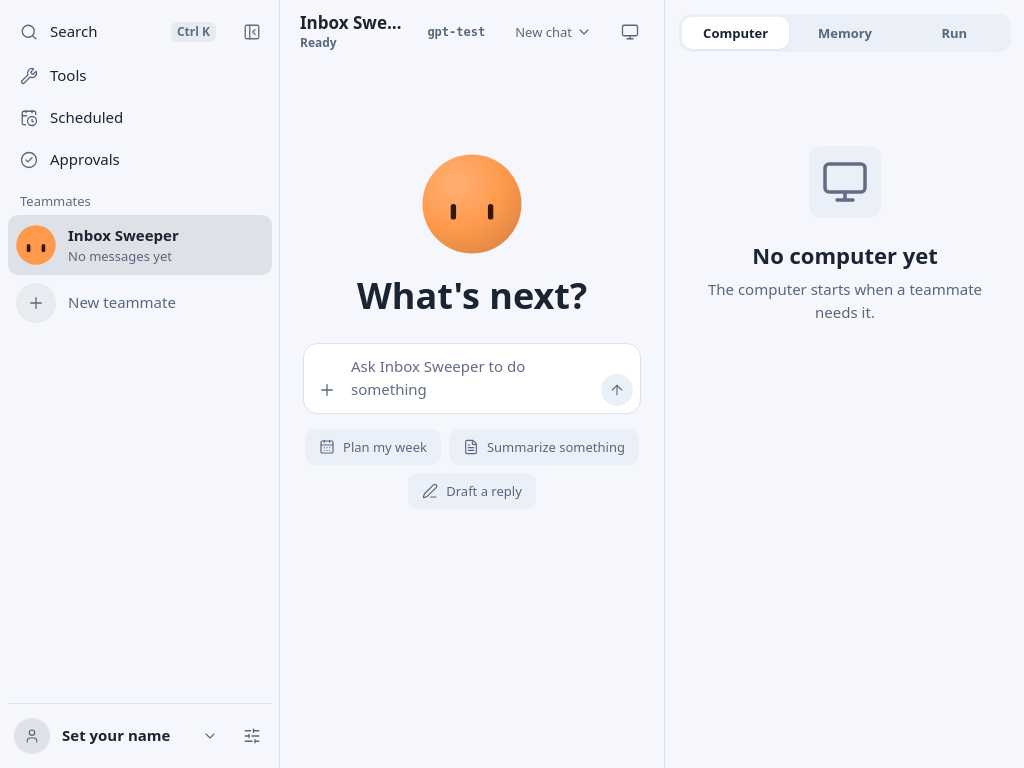
Test: composer › opens the add menu with only an honest, disabled attach item
Step 1. Click the button named "Add to message" → (327, 390), box [311,374,343,406]
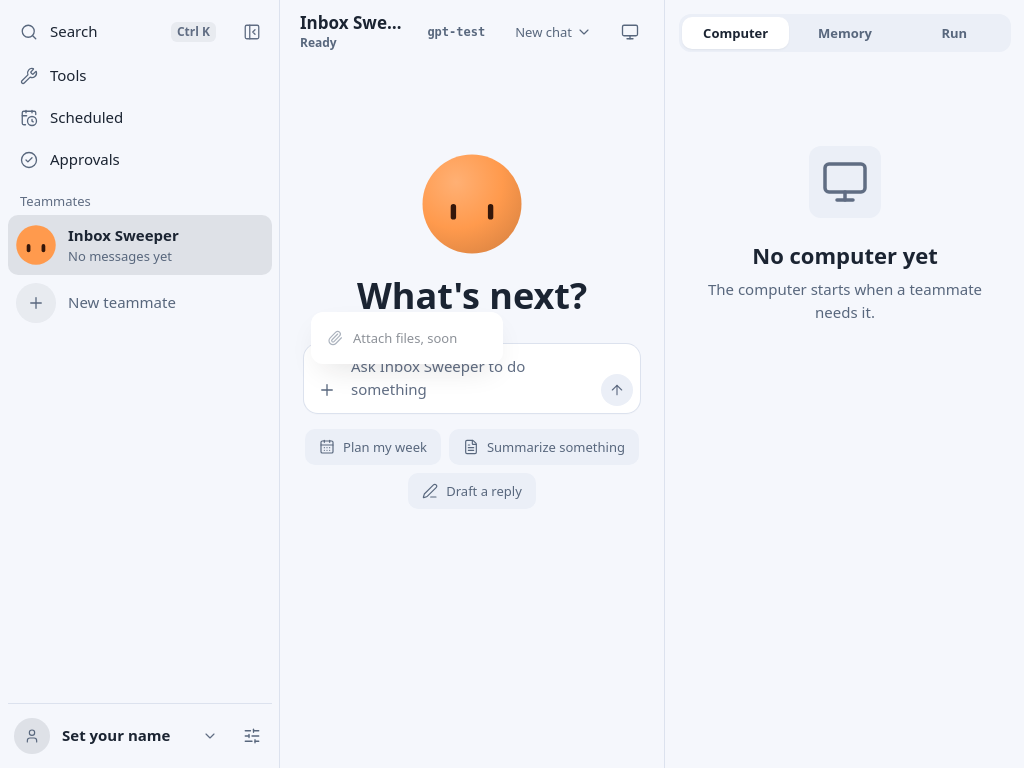
Expected: the number of menu items is 1, [327,329,457,347]
Expected: the menu item reads "Attach files, soon", [327,329,457,347]
